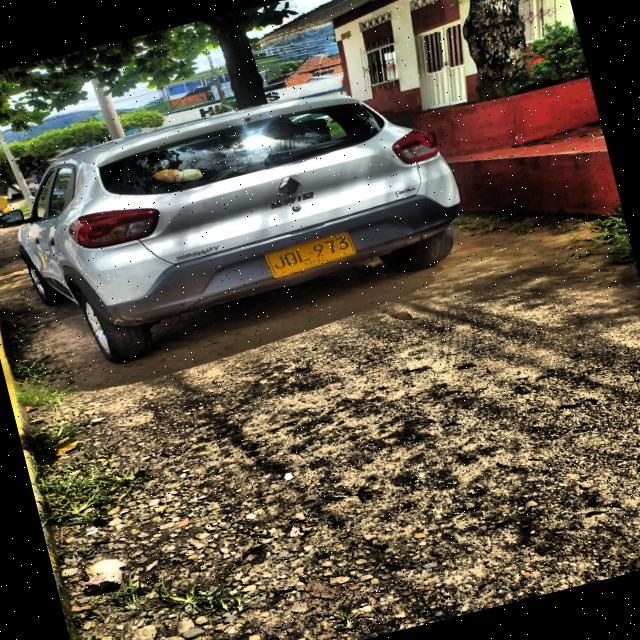plate: (265, 230, 355, 277)
